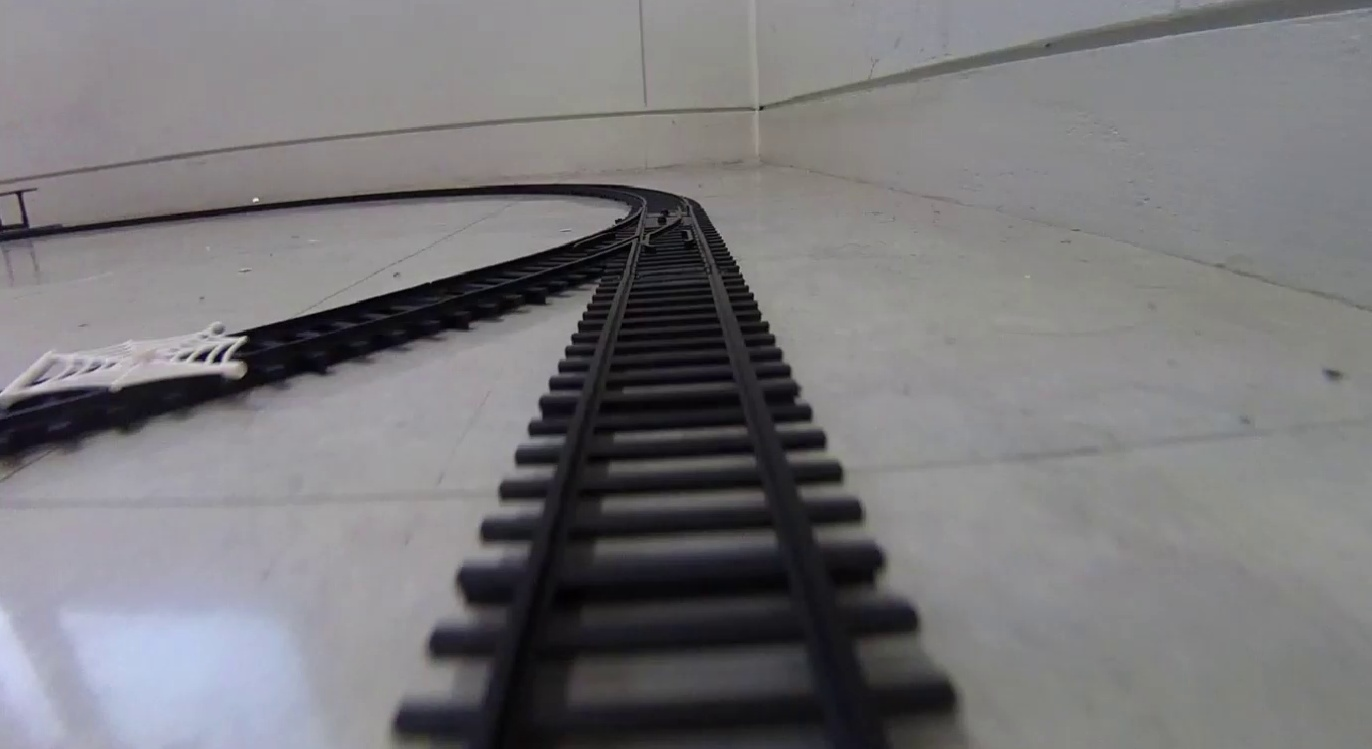web: (9, 330, 248, 383)
